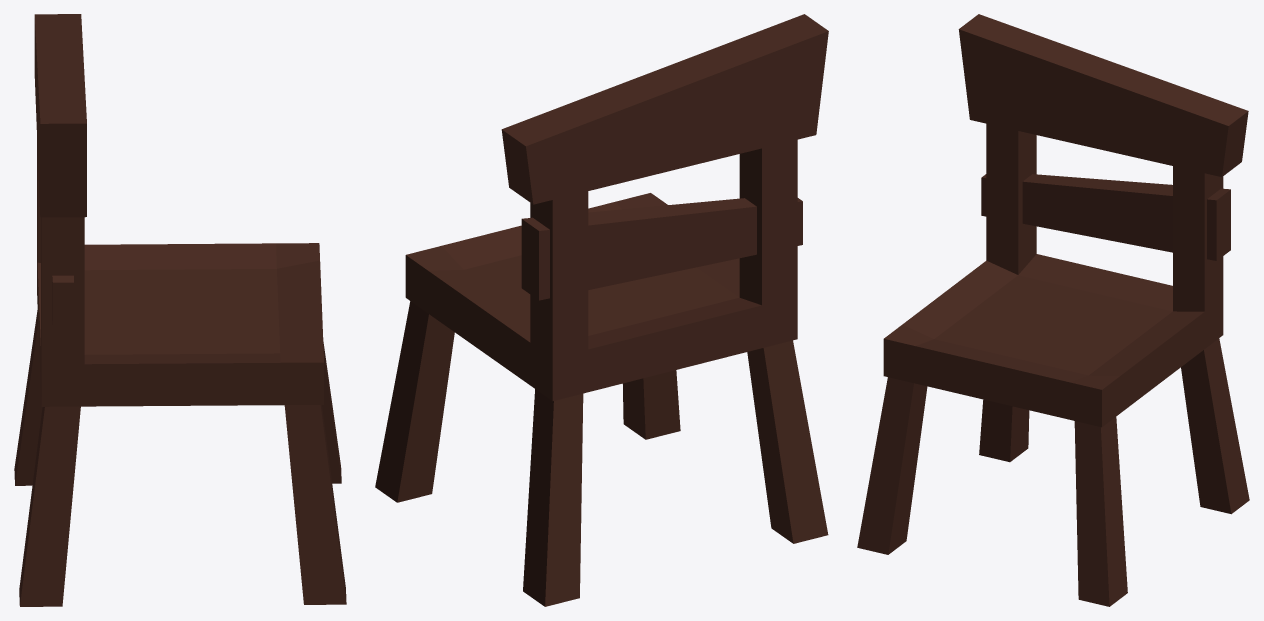
The picture shows the model from 3 angles, left to right: view 1: azimuth 30°, elevation 25°; view 2: azimuth 150°, elevation 25°; view 3: azimuth 270°, elevation 25°; orthographic projection. The views are drawn at different scales.
Parts seen in each view (by area): view 1: tsjer; view 2: tsjer; view 3: tsjer.
Boxes of the visible parts, <box> form: tsjer: <box>14,14,346,606</box>; tsjer: <box>375,14,828,606</box>; tsjer: <box>857,14,1249,606</box>.
Bounding box in the file's own units: 950 × 1153 × 950.
